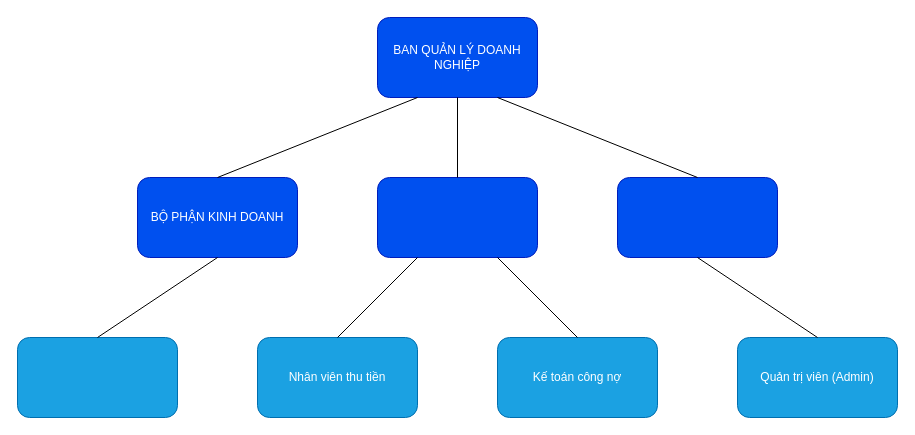
Some shapes in this 915 by 435 pixel diagram are drawn without their labels. Each missing label, with the centre of its shape:
"BỘ PHẬN KẾ TOÁN" goes at (x=457, y=217).
"BỘ PHẬN QUẢN TRỊ HỆ THỐNG" goes at (x=697, y=217).
"Nhân viên kinh doanh" goes at (x=97, y=377).
